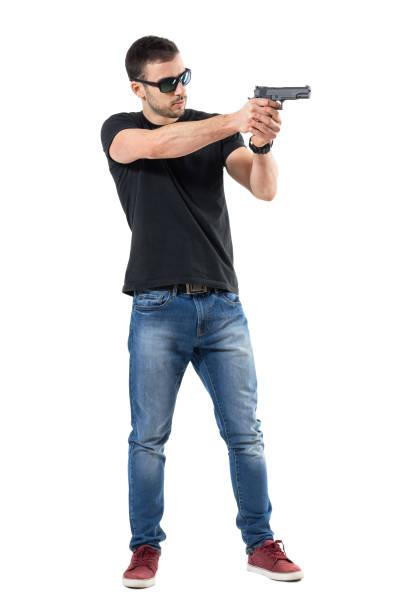weapon: (245, 76, 311, 132)
